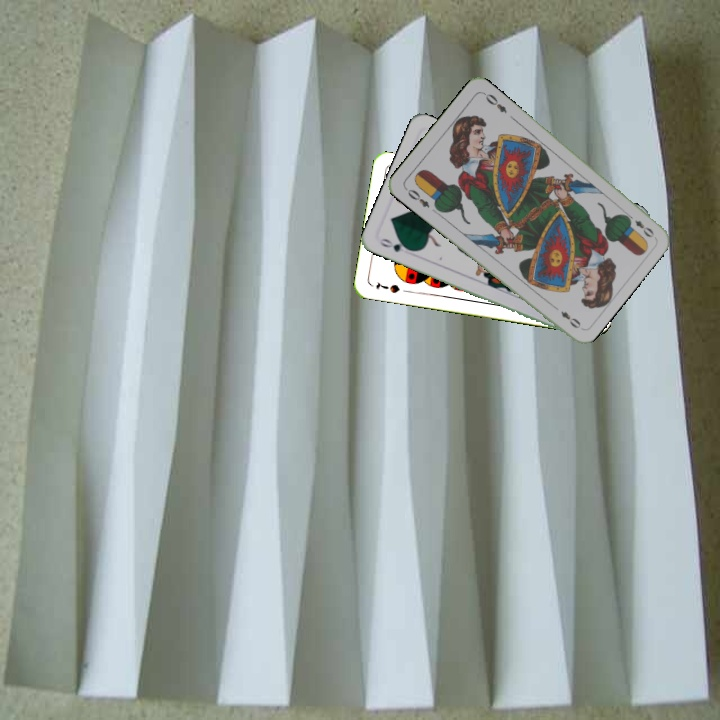EO: (622, 210, 657, 240), (401, 184, 432, 210)
GO: (376, 234, 415, 255)
S7: (372, 278, 402, 295)
